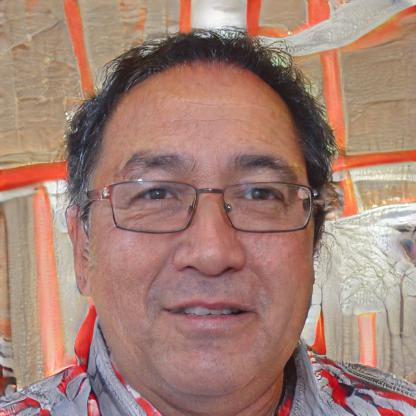glasses: (90, 173, 319, 244)
